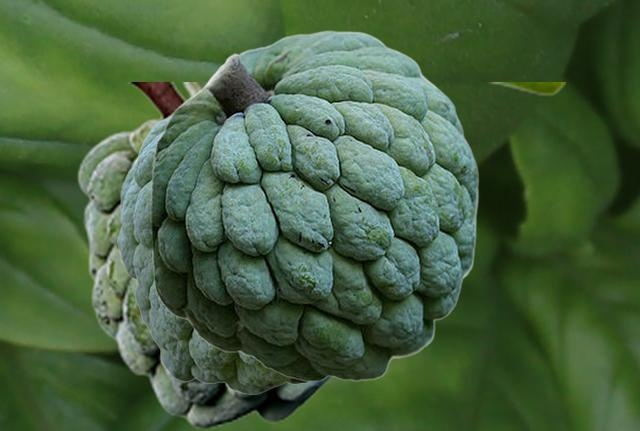atis: (76, 82, 564, 429), (150, 30, 478, 381), (117, 116, 311, 393)
